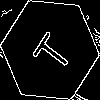T: (25, 25, 75, 77)
